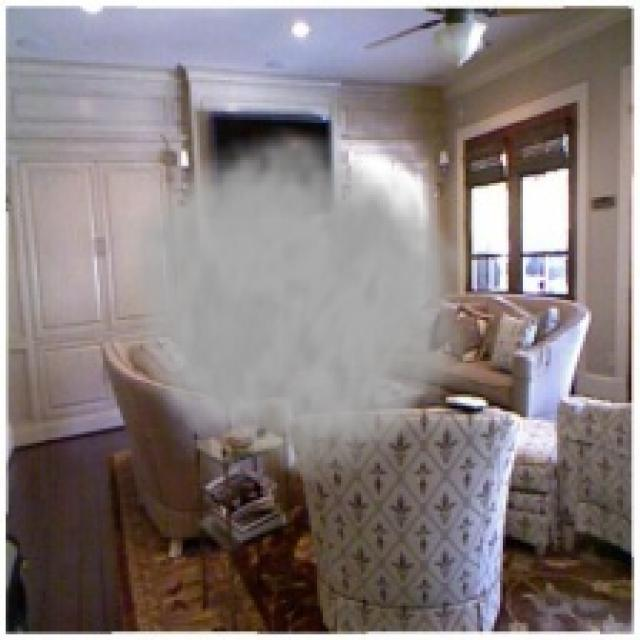Smoke: (108, 117, 474, 494)
